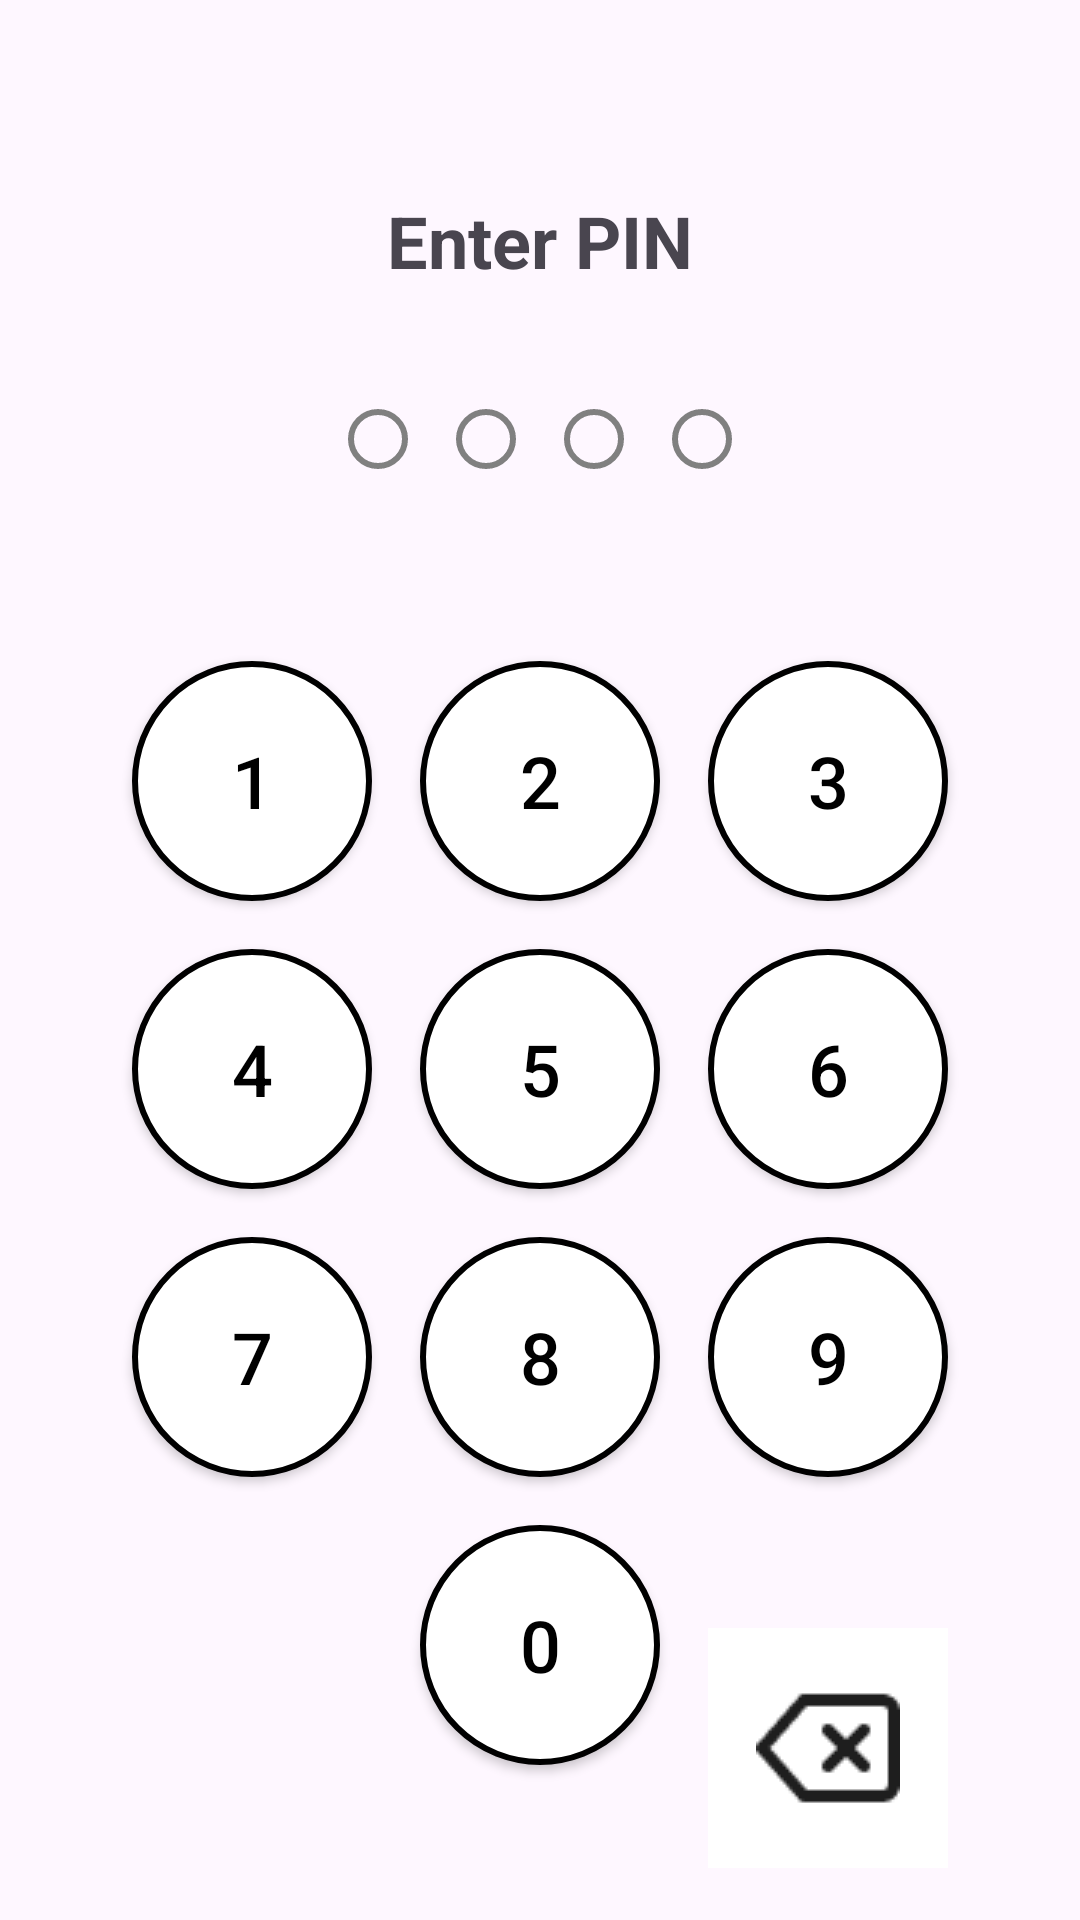

Named icons in this screenshot (1080px x 1920px) and their bounding boxes, BBox(x1, y1, x2, y2):
pin backspace: BBox(756, 1693, 900, 1803)
pin dot: BBox(348, 409, 408, 469), BBox(456, 409, 516, 469), BBox(564, 409, 624, 469), BBox(672, 409, 732, 469)
